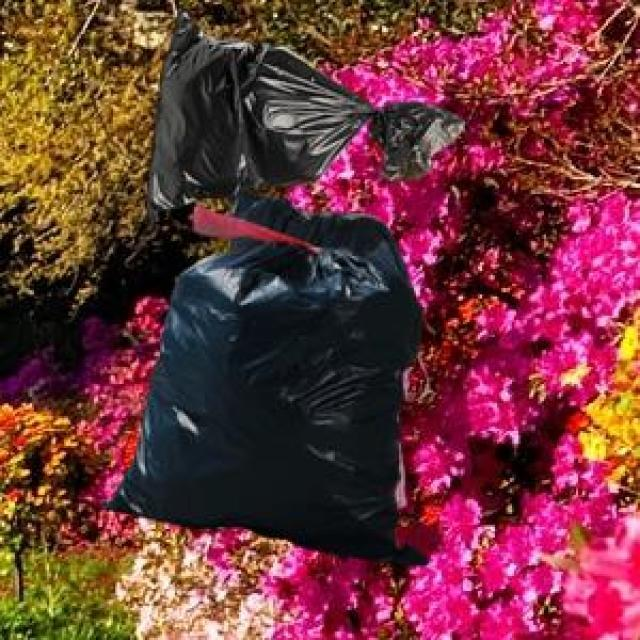waste: (109, 16, 464, 564)
